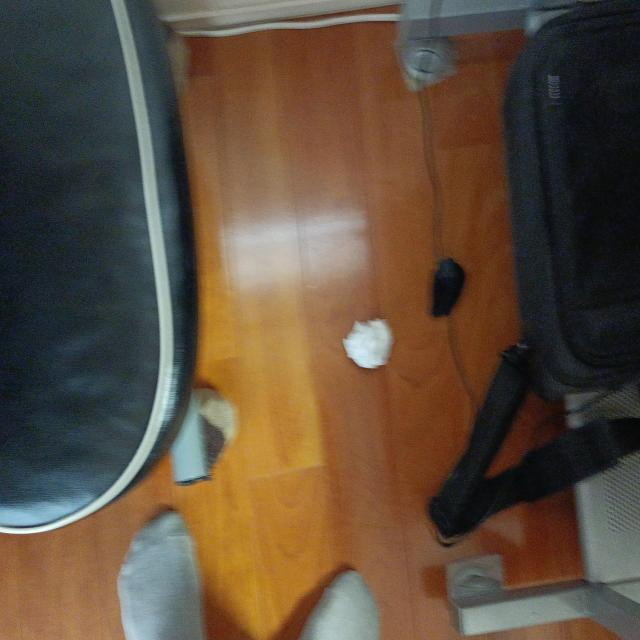Paper: (336, 312, 406, 368)
